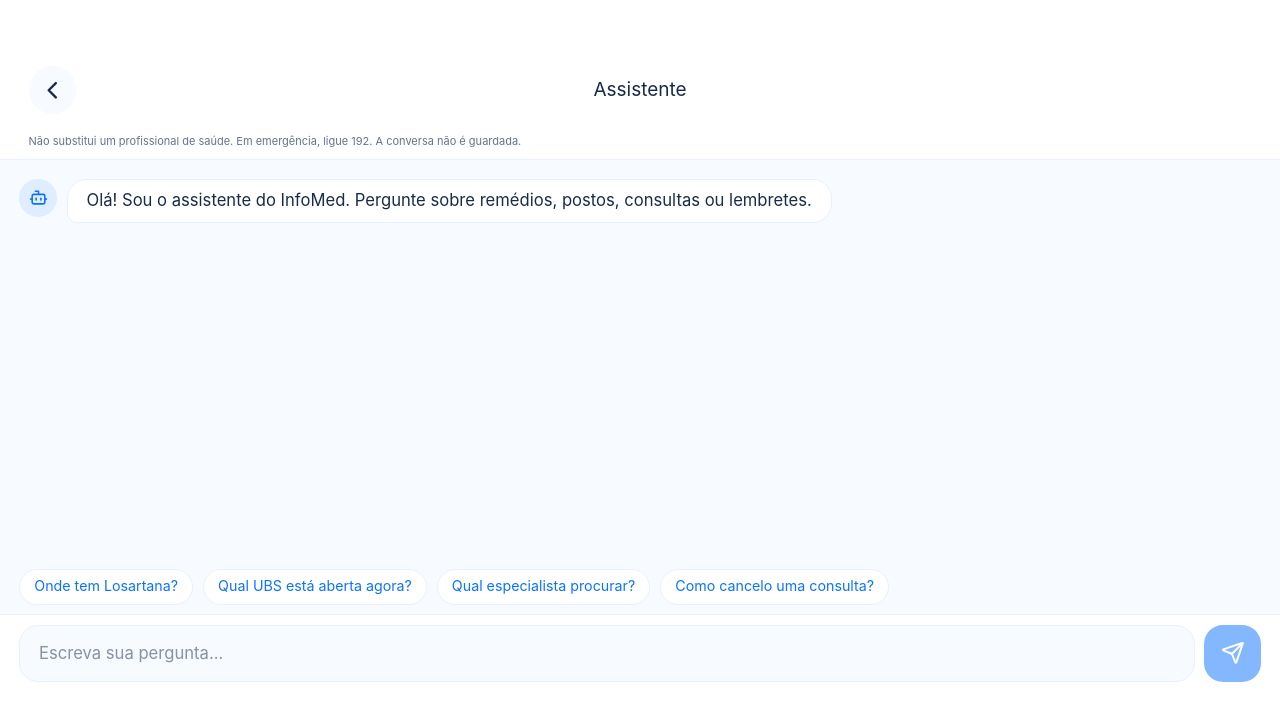
Test case: tela do assistente › não grava a conversa no navegador
(page scrolled)
Type "texto secreto de saúde" into the field named "Mensagem" at (607, 653), box [19,624,1194,682]
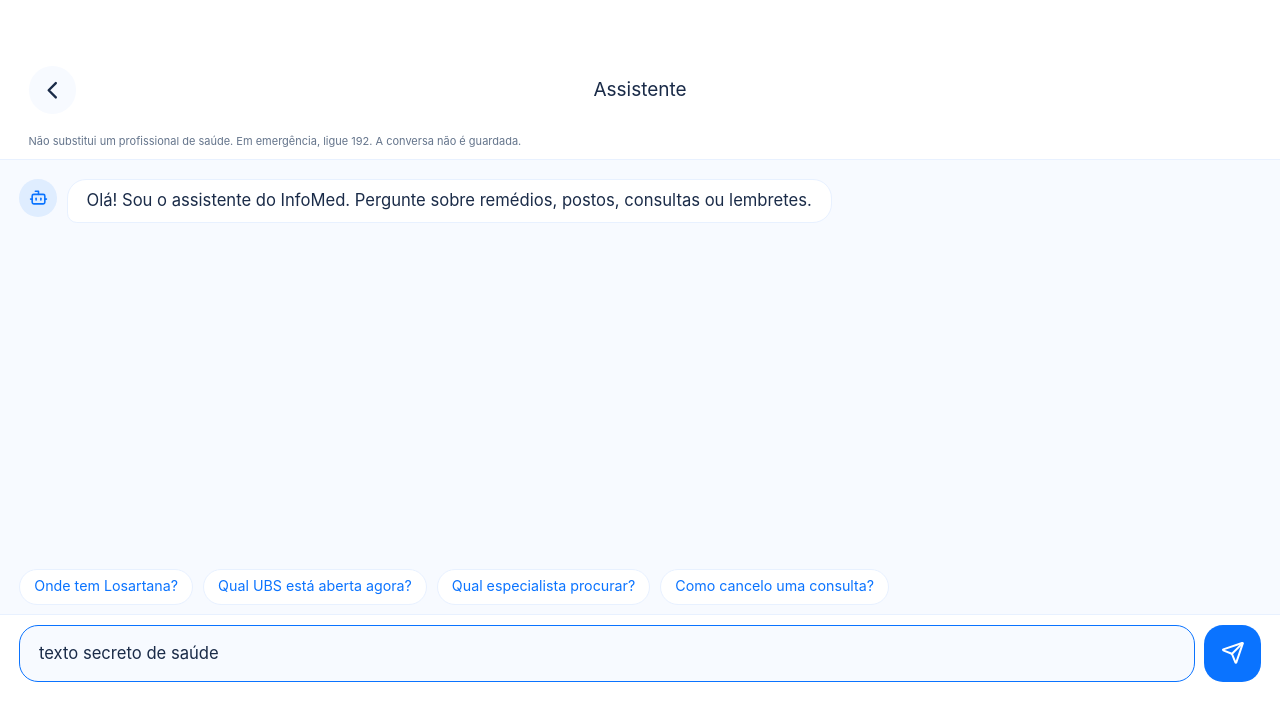
Click the button named "Enviar" at (1232, 653), box [1204,624,1261,682]
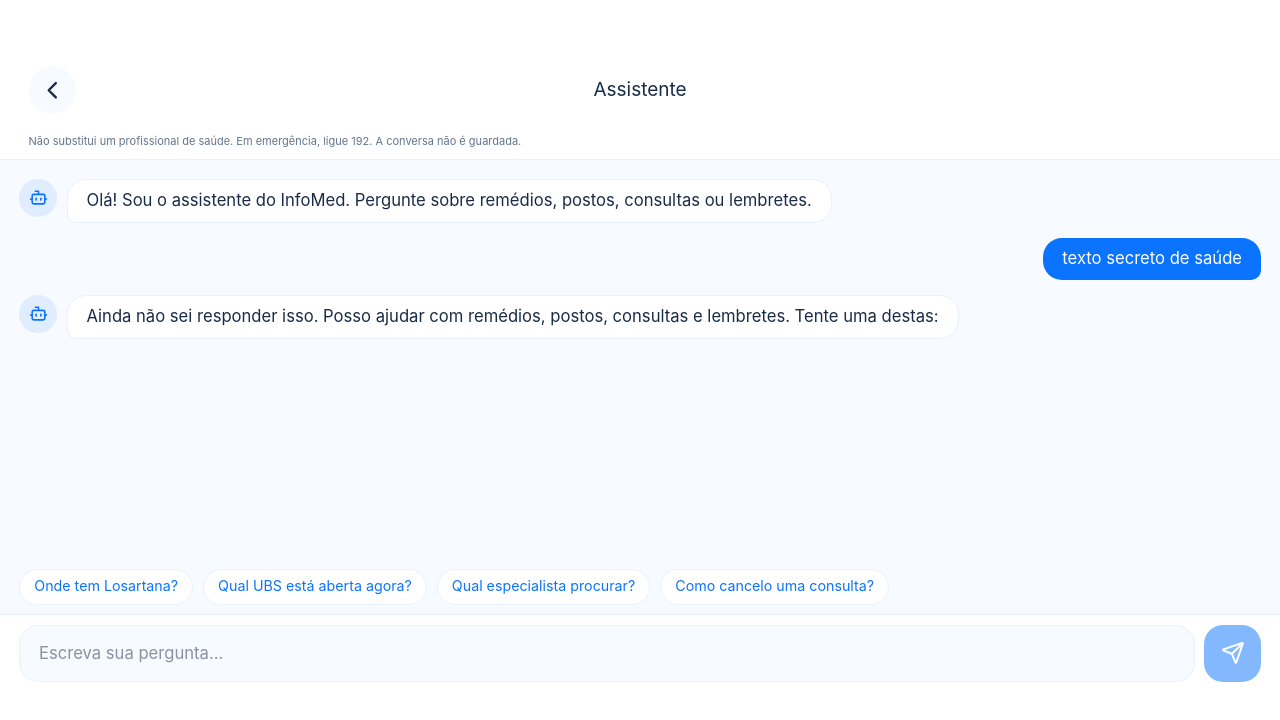
Expected: the text "texto secreto de saúde" is shown, [1043,238,1261,280]
